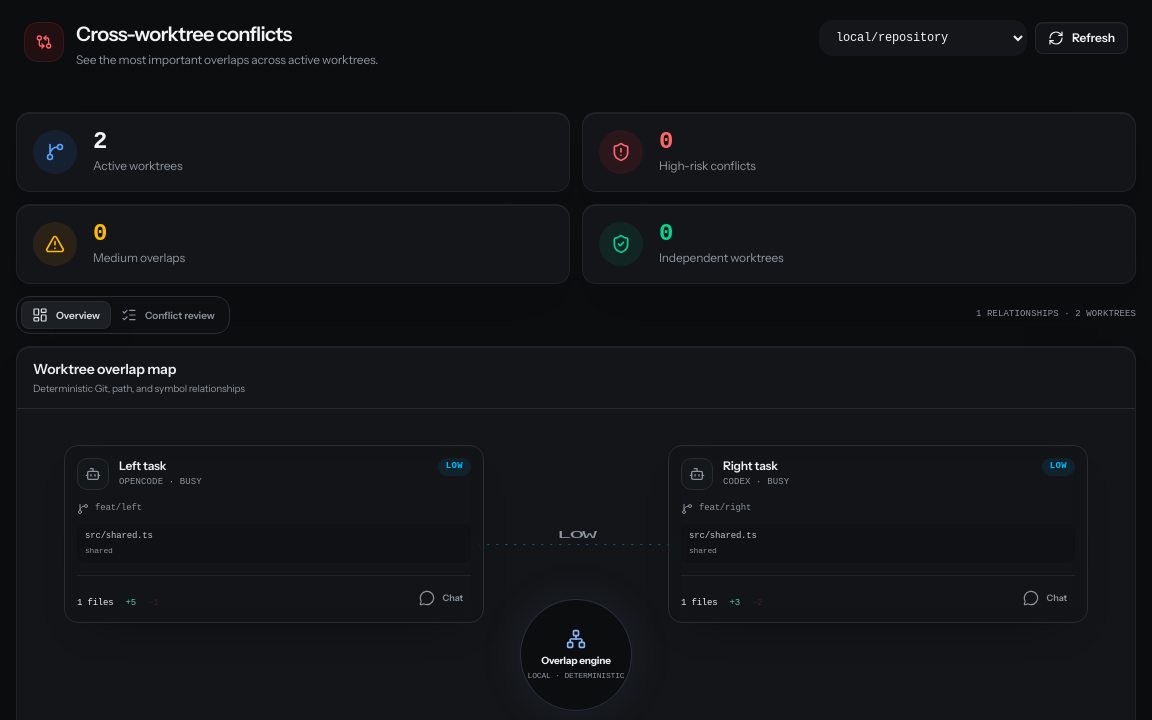
Test case: Intelligence conflict page › keeps passive relationships on the map but out of conflict review
Click the button with aria-label "Show conflict review" at (168, 315), box [111,301,225,329]
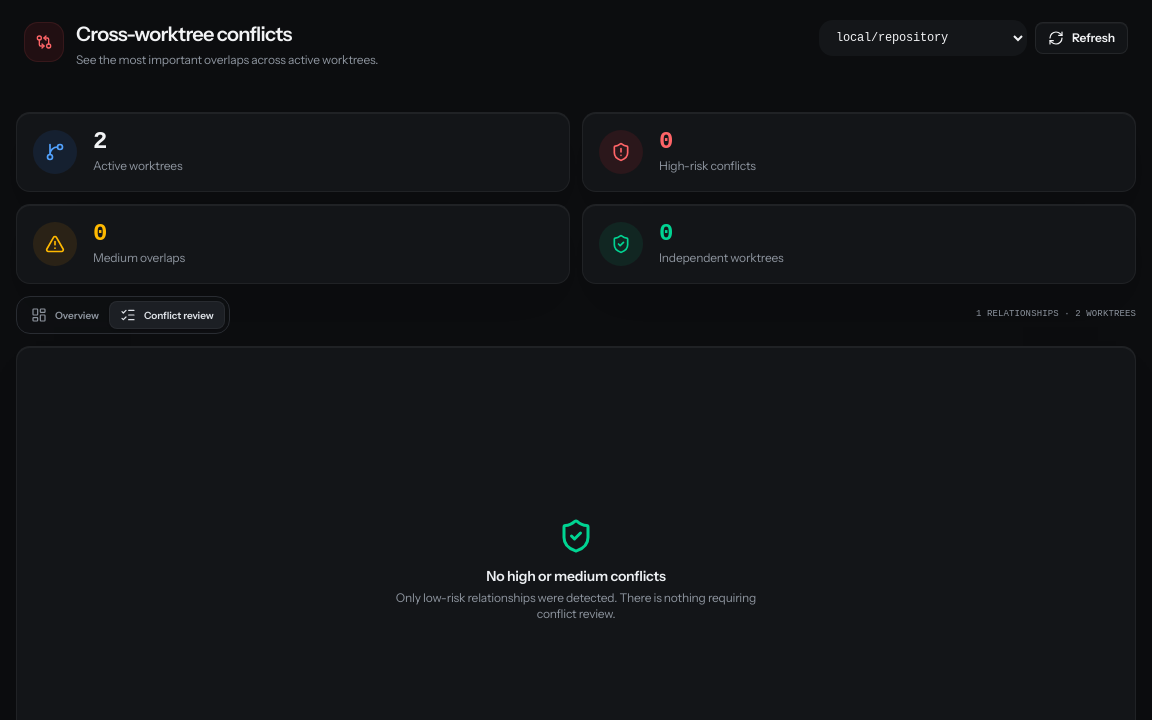
expect the heading "No high or medium conflicts" is shown: met, box [486,567,666,585]
